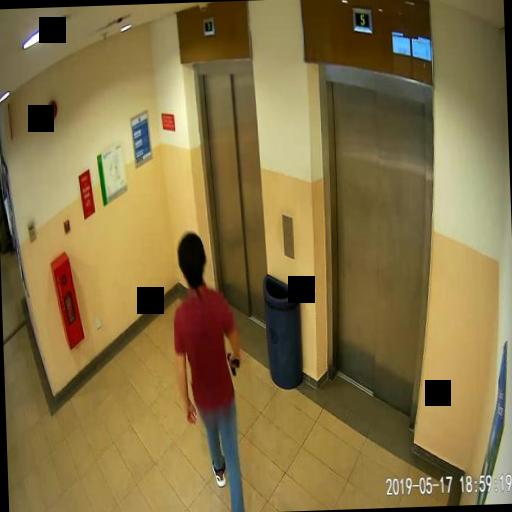Handgun: (225, 350, 238, 374)
